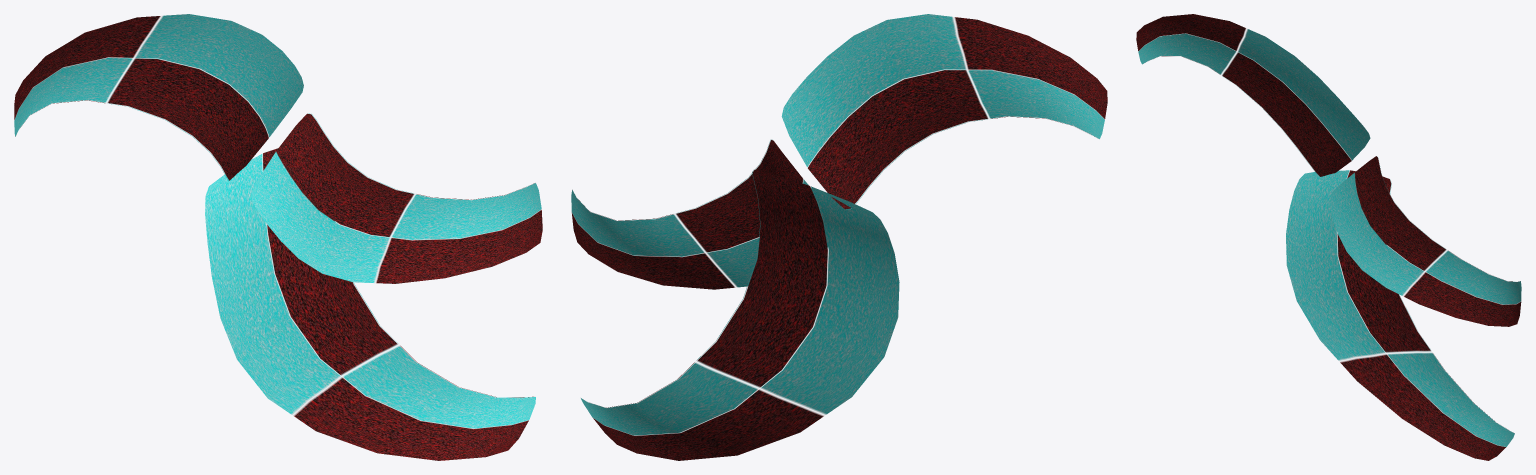
3 views of the same model, side by side, from view 1: azimuth 30°, elevation 25°; view 2: azimuth 150°, elevation 25°; view 3: azimuth 330°, elevation 25° (orthographic). The views are drawn at different scales.
Parts seen in each view (by area): view 1: SM_VFX_MultiSwirlB_LOD0; view 2: SM_VFX_MultiSwirlB_LOD0; view 3: SM_VFX_MultiSwirlB_LOD0.
Boxes of the visible parts, <box> form: SM_VFX_MultiSwirlB_LOD0: <box>14,14,542,460</box>; SM_VFX_MultiSwirlB_LOD0: <box>571,14,1107,460</box>; SM_VFX_MultiSwirlB_LOD0: <box>1136,14,1521,460</box>.
Bounding box in the file's own units: 7.89 × 7.39 × 0.6831.
Materials: 1 (1 with a texture image).
